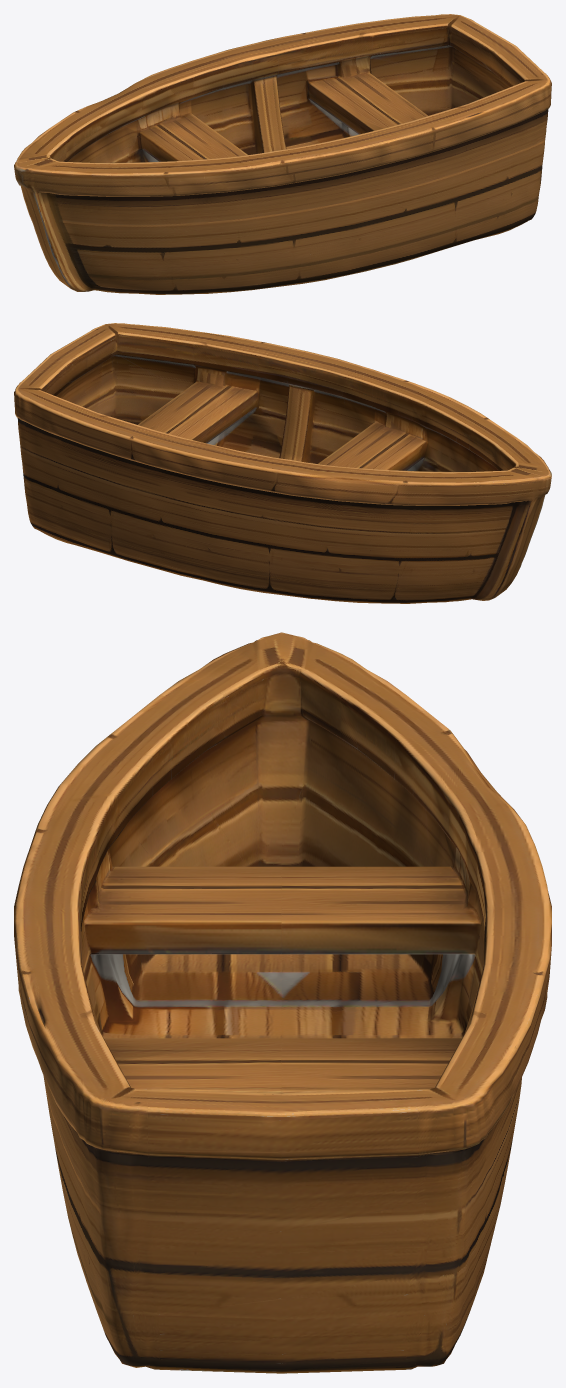
Rendered from boat.glb.
The picture shows the model from 3 angles, top to bottom: view 1: azimuth 30°, elevation 25°; view 2: azimuth 150°, elevation 25°; view 3: azimuth 270°, elevation 25°; orthographic projection. The views are drawn at different scales.
Bounding box in the file's own units: 1.91 × 0.5205 × 0.8963.
Materials: 1 (1 with a texture image).
